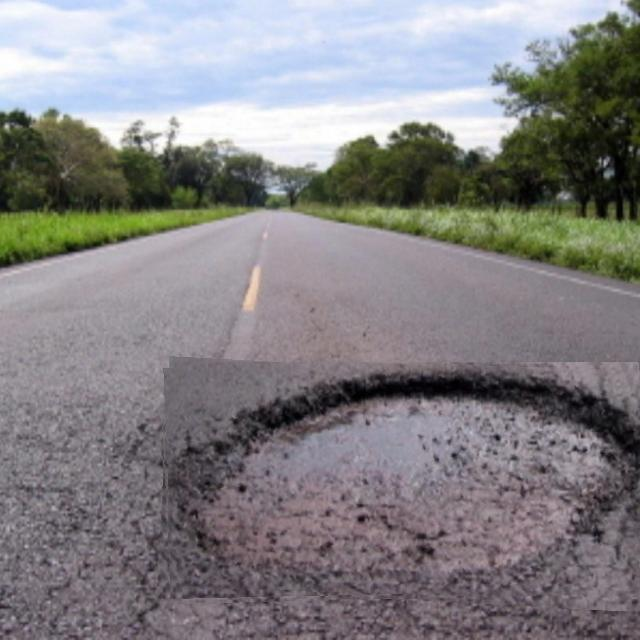Pothole: (160, 362, 640, 604)
